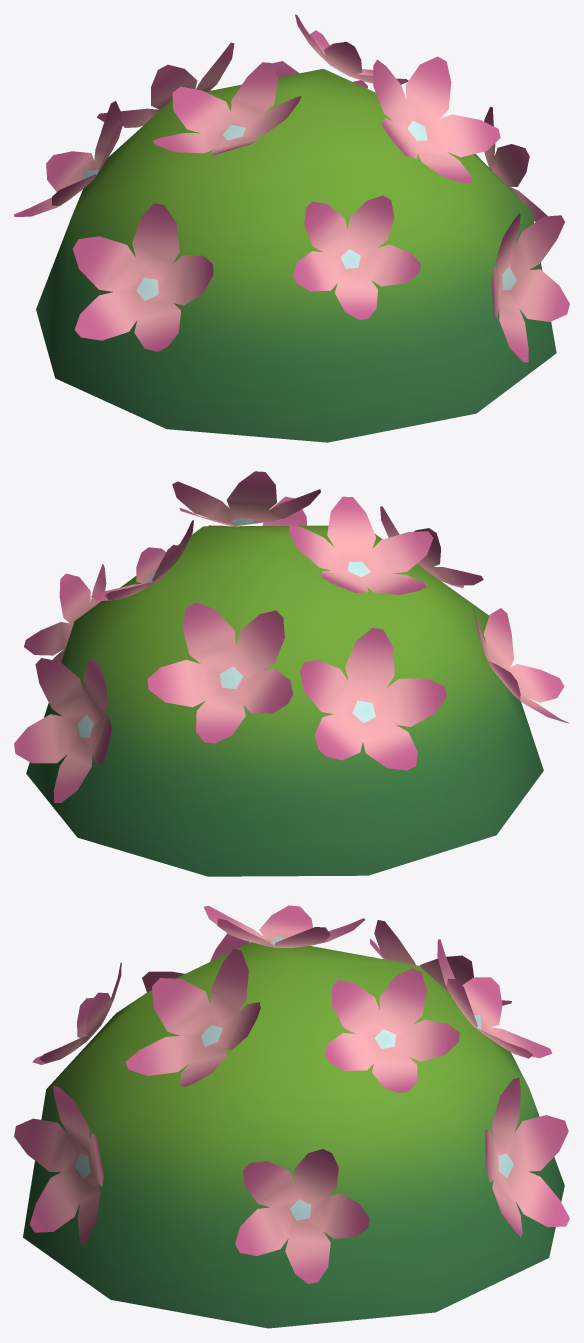
File: flower_019_base_material_0.fbx
The picture shows the model from 3 angles, top to bottom: view 1: azimuth 30°, elevation 25°; view 2: azimuth 150°, elevation 25°; view 3: azimuth 270°, elevation 25°; orthographic projection. The views are drawn at different scales.
Visible parts, largest first — view 1: flower_019_base_material_0; view 2: flower_019_base_material_0; view 3: flower_019_base_material_0.
Boxes of the visible parts, box(x1,y1,x2,y2) form: flower_019_base_material_0: box(14, 14, 569, 442); flower_019_base_material_0: box(14, 471, 569, 876); flower_019_base_material_0: box(14, 905, 569, 1328).
Size of the model in its own units: 2.16 by 2 by 1.15.
Materials: 1 (1 with a texture image).
